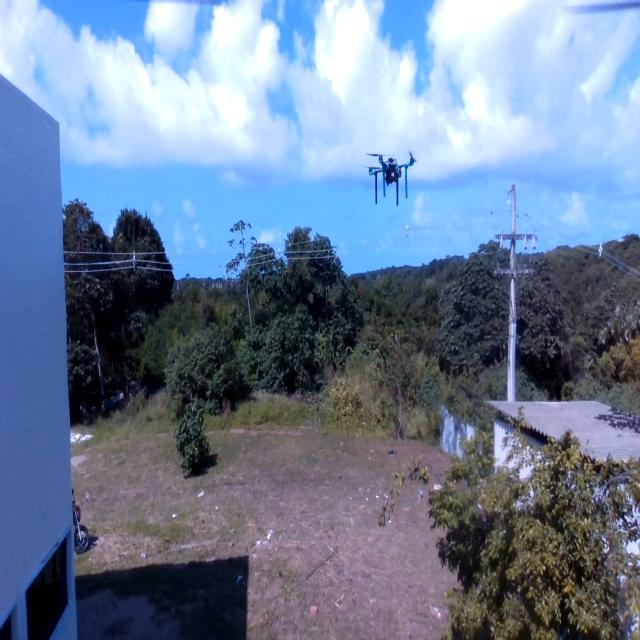-uav-: (352, 130, 422, 215)
